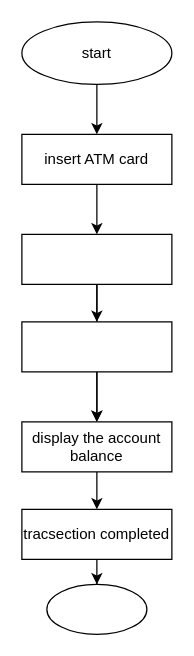
Some shapes in this 194 by 656 pixel diagram are drawn without their labels. The shapes that lost their labels are listed below. From the top down, each one's centre as x and y in pixels, then its label:
(x=96, y=258): enter the pin
(x=96, y=346): select "select balancy enquiry"
